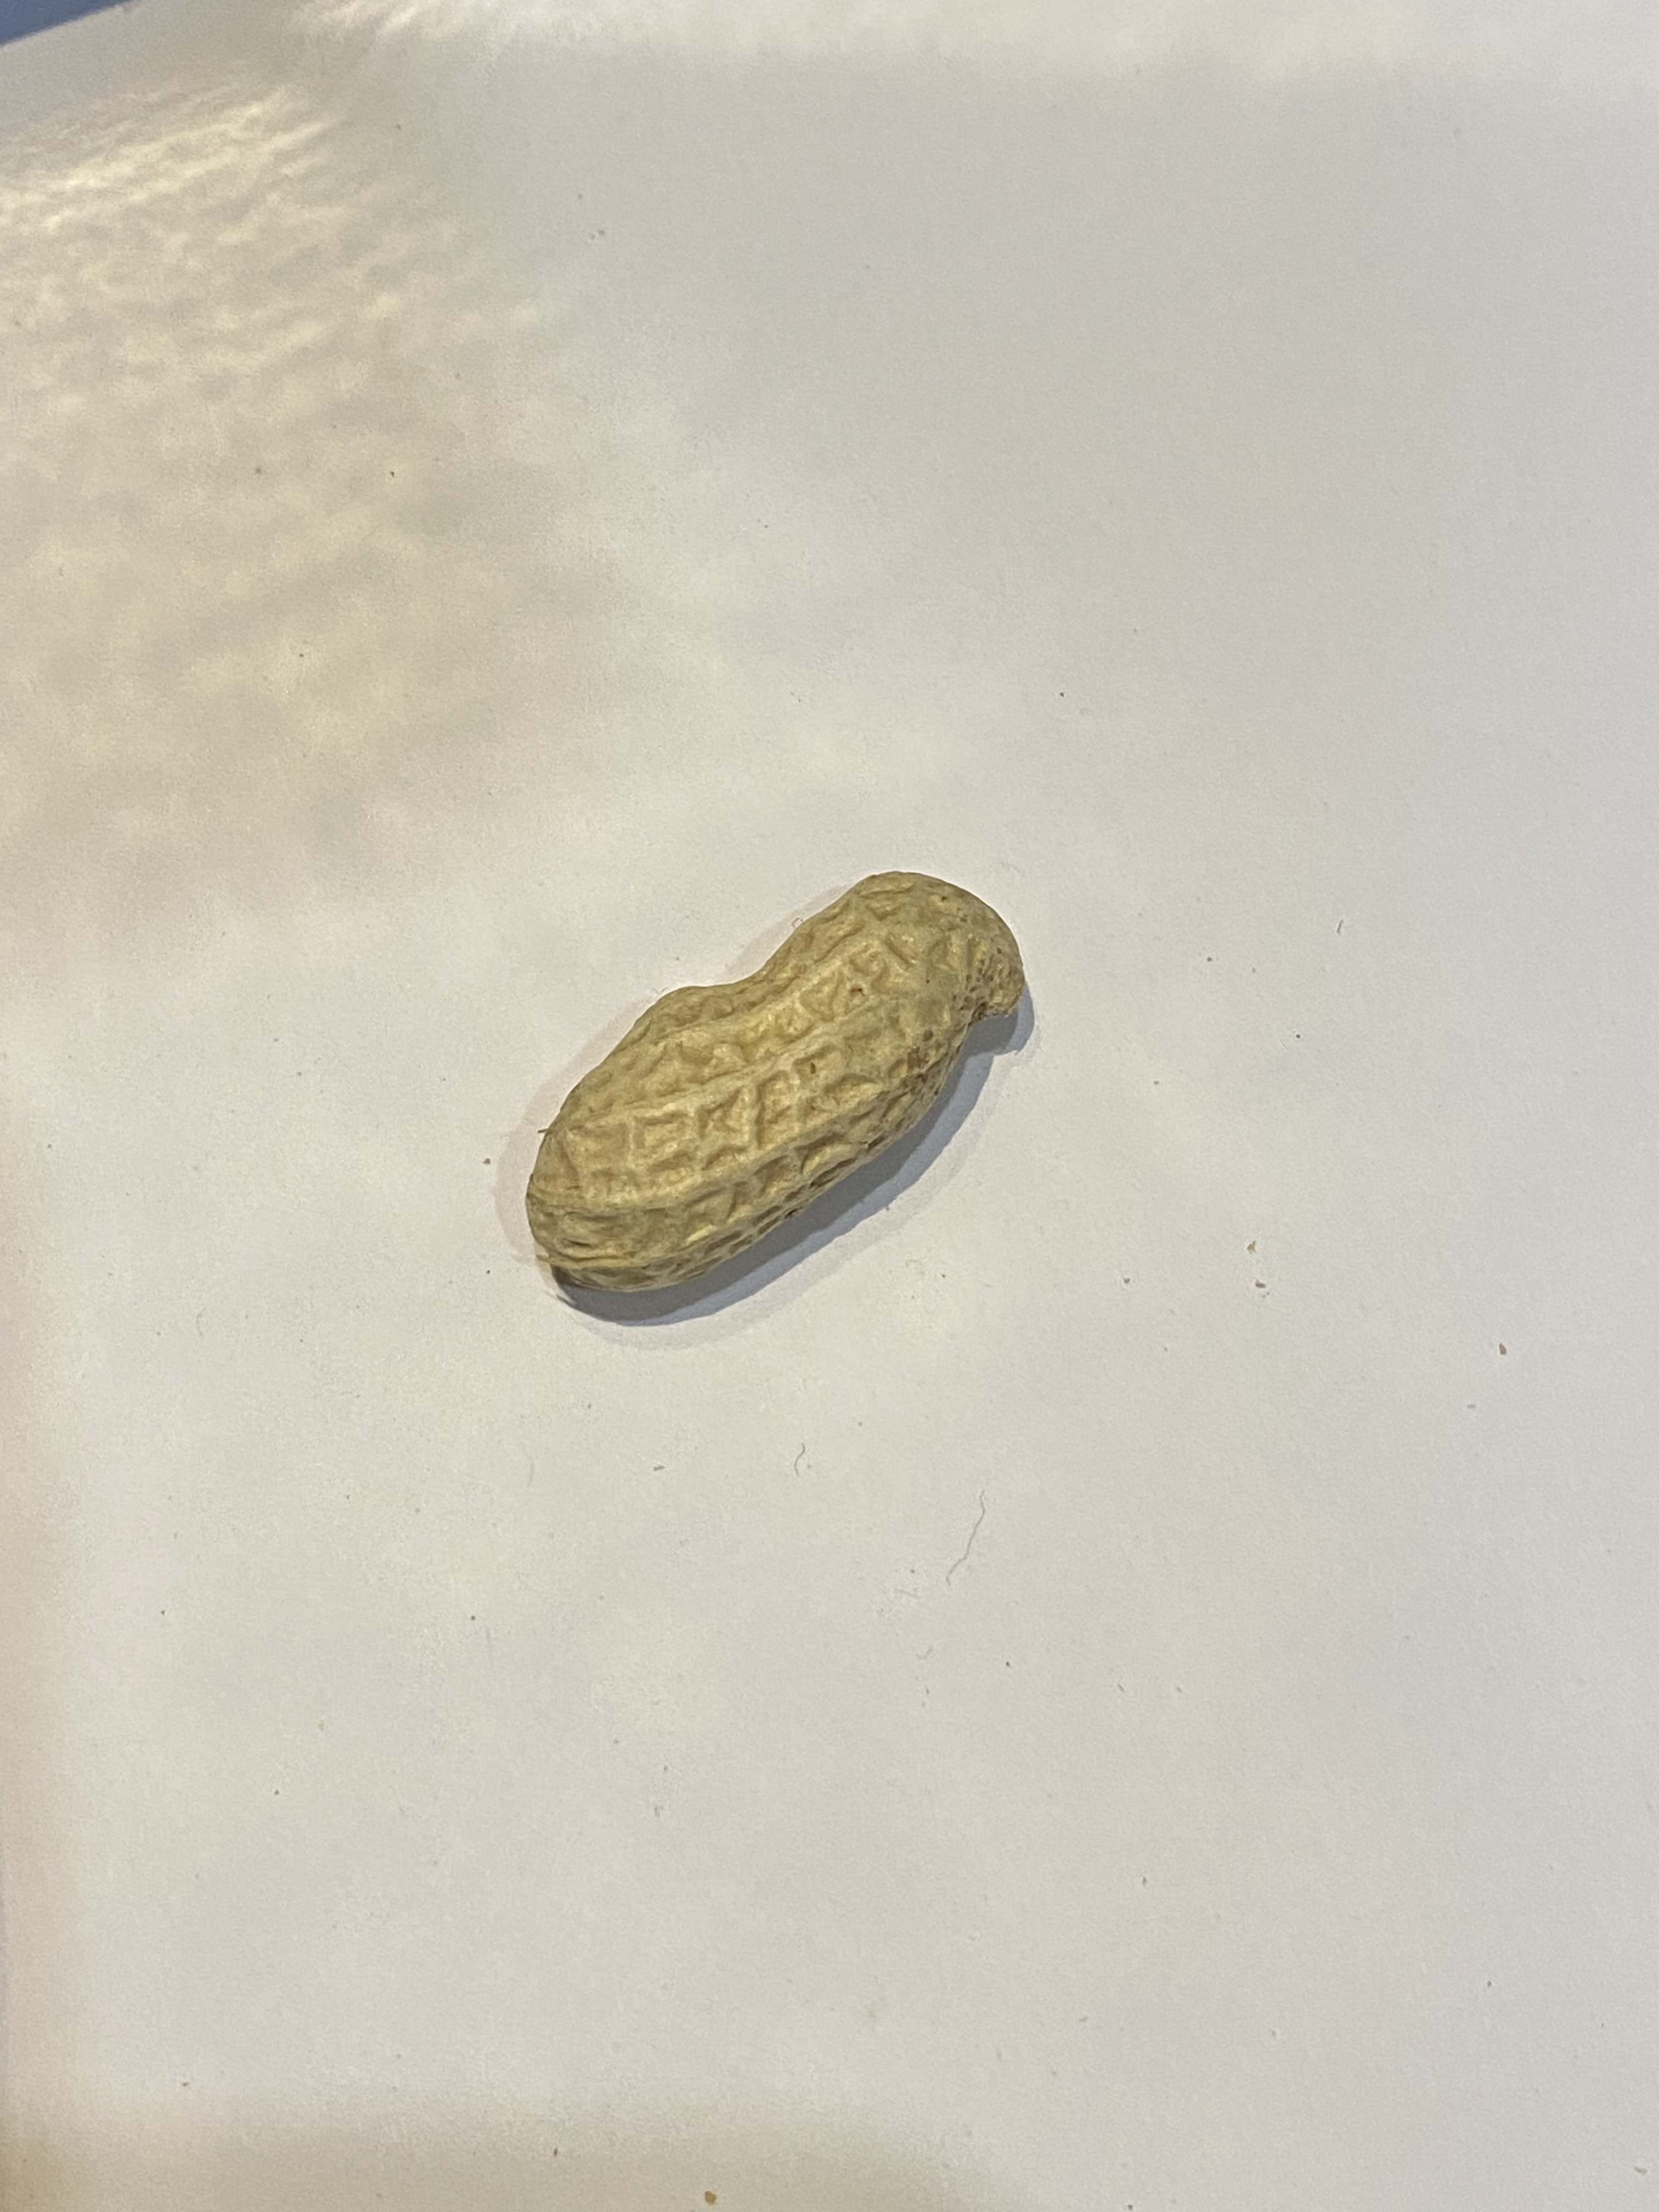kacang2: (488, 852, 1054, 1308)
